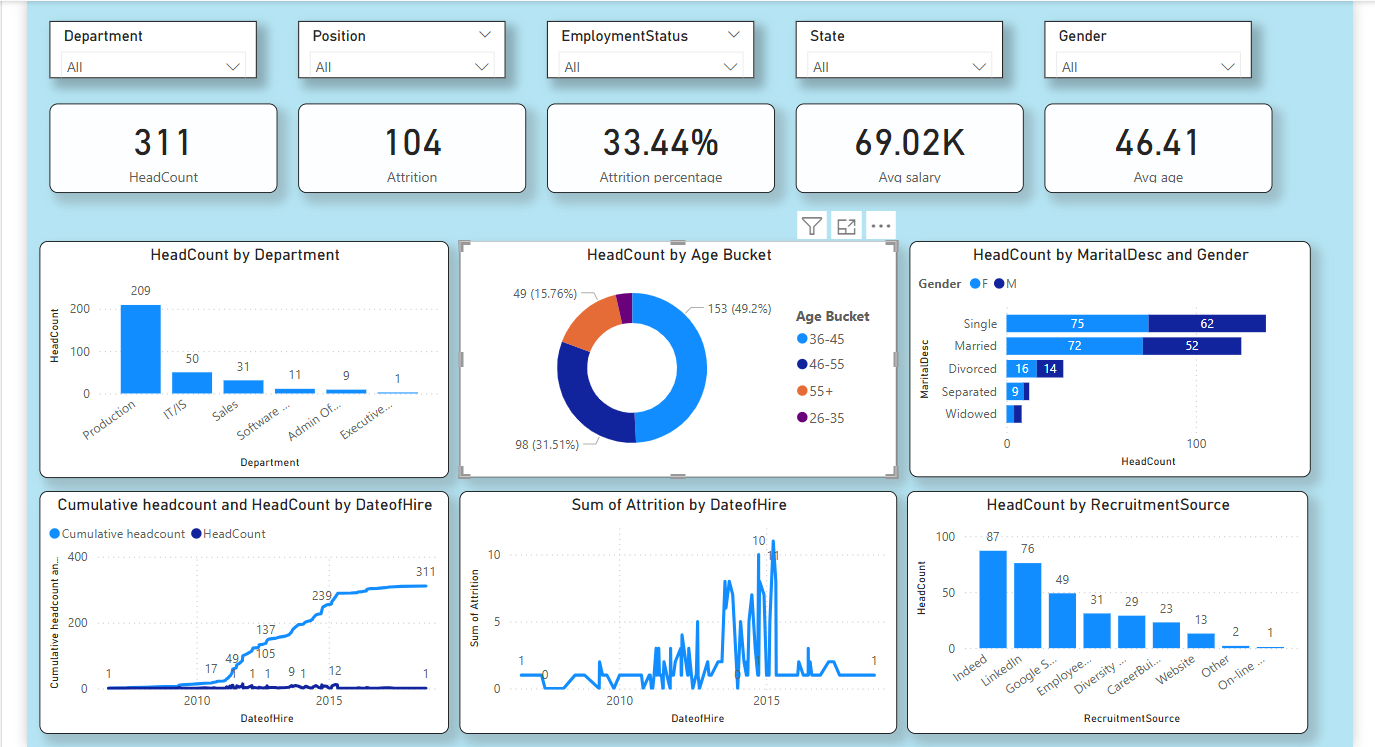

What the dashboard file says about the page in this screenshot:
{"tool":"powerbi","page":{"name":"Page 1","canvas":[1280,720],"ordinal":0},"visuals":[{"type":"card","fields":{"Values":["Measure.HeadCount"]},"box":[22,98.8,220,86],"z":0},{"type":"card","fields":{"Values":["Measure.Attrition"]},"box":[262.1,98.8,220,86],"z":1000},{"type":"card","fields":{"Values":["Measure.Attrition percentage"]},"box":[502.2,98.8,220,86],"z":2000},{"type":"card","fields":{"Values":["Measure.Avg salary"]},"box":[742.4,98.8,220,86],"z":3000},{"type":"card","fields":{"Values":["Measure.Avg age"]},"box":[982.5,98.8,220,86],"z":4000},{"type":"columnChart","fields":{"Category":["HRData.Department"],"Y":["Measure.HeadCount"]},"box":[12.3,231.9,395.2,229.2],"z":5000},{"type":"donutChart","fields":{"Category":["HRData.Age Bucket"],"Y":["Measure.HeadCount"]},"box":[417.2,231.9,422.6,227.8],"z":6000},{"type":"barChart","fields":{"Category":["HRData.MaritalDesc"],"Y":["Measure.HeadCount"],"Series":["HRData.Gender"]},"box":[852.1,231.9,387,227.8],"z":7000},{"type":"lineChart","fields":{"Y":["Measure.Cumulative headcount","Measure.HeadCount"],"Category":["HRData.DateofHire"]},"box":[12.3,473.4,395.2,234.6],"z":8000},{"type":"lineChart","fields":{"Y":["Sum(HRData.Attrition)"],"Category":["HRData.DateofHire"]},"box":[417.2,473.4,422.6,234.6],"z":9000},{"type":"columnChart","fields":{"Y":["Measure.HeadCount"],"Category":["HRData.RecruitmentSource"]},"box":[849.4,473.4,387,234.6],"z":10000},{"type":"slicer","fields":{"Values":["HRData.Department"]},"box":[32.9,19.2,200,55],"z":11000},{"type":"slicer","fields":{"Values":["HRData.Position"]},"box":[277.9,19.2,200,55],"z":12000},{"type":"slicer","fields":{"Values":["HRData.EmploymentStatus"]},"box":[522.8,19.2,200,55],"z":13000},{"type":"slicer","fields":{"Values":["HRData.State"]},"box":[767.8,19.2,200,55],"z":14000},{"type":"slicer","fields":{"Values":["HRData.Gender"]},"box":[1012.7,19.2,200,55],"z":15000}]}

Visuals, with their boxes in screenshot pixels (x1, y1, x2, y2):
card - Measure.HeadCount: [x1=55, y1=105, x2=280, y2=193]
card - Measure.Attrition: [x1=301, y1=105, x2=526, y2=193]
card - Measure.Attrition percentage: [x1=547, y1=105, x2=773, y2=193]
card - Measure.Avg salary: [x1=793, y1=105, x2=1019, y2=193]
card - Measure.Avg age: [x1=1039, y1=105, x2=1265, y2=193]
columnChart - HRData.Department x Measure.HeadCount: [x1=45, y1=241, x2=450, y2=476]
donutChart - HRData.Age Bucket x Measure.HeadCount: [x1=460, y1=241, x2=893, y2=475]
barChart - HRData.MaritalDesc x Measure.HeadCount: [x1=906, y1=241, x2=1302, y2=475]
lineChart - Measure.Cumulative headcount x Measure.HeadCount: [x1=45, y1=489, x2=450, y2=729]
lineChart - Sum(HRData.Attrition) x HRData.DateofHire: [x1=460, y1=489, x2=893, y2=729]
columnChart - Measure.HeadCount x HRData.RecruitmentSource: [x1=903, y1=489, x2=1300, y2=729]
slicer - HRData.Department: [x1=66, y1=23, x2=271, y2=80]
slicer - HRData.Position: [x1=317, y1=23, x2=522, y2=80]
slicer - HRData.EmploymentStatus: [x1=568, y1=23, x2=773, y2=80]
slicer - HRData.State: [x1=819, y1=23, x2=1024, y2=80]
slicer - HRData.Gender: [x1=1070, y1=23, x2=1275, y2=80]
